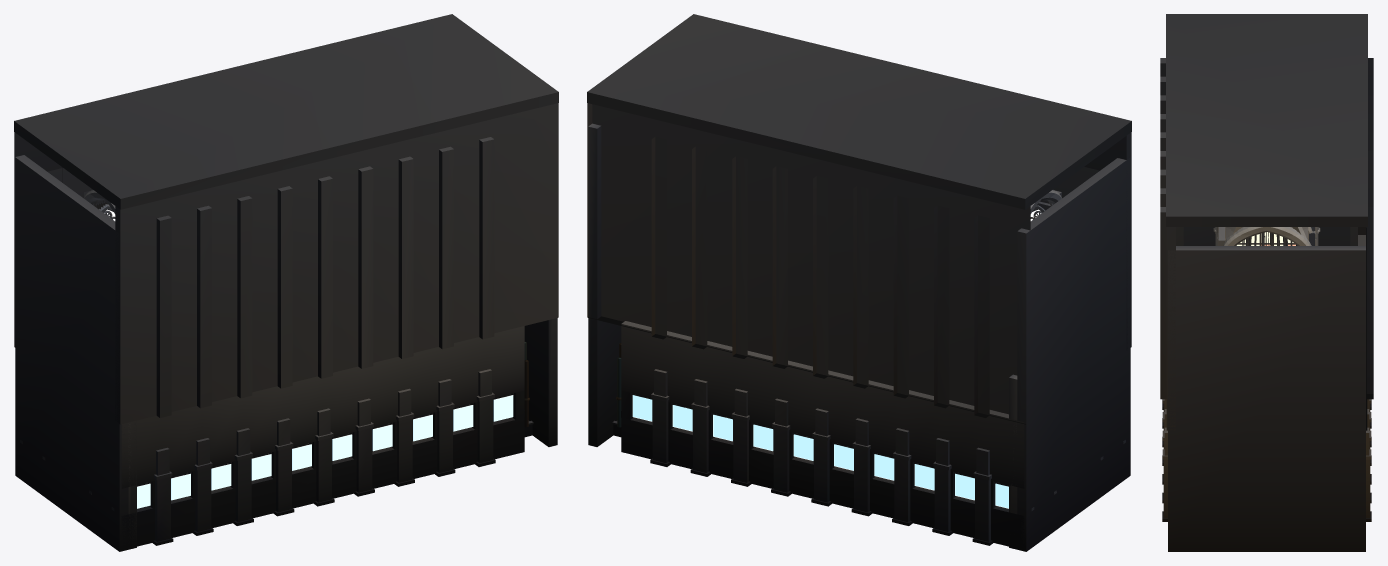
Rendered from cathedral_opus5_medium.glb.
3 views of the same model, side by side, from view 1: azimuth 30°, elevation 25°; view 2: azimuth 150°, elevation 25°; view 3: azimuth 270°, elevation 25° (orthographic). The views are drawn at different scales.
Visible parts, largest first — view 1: Cathedral; view 2: Cathedral; view 3: Cathedral.
Boxes of the visible parts, <box> form: Cathedral: <box>14,14,558,551</box>; Cathedral: <box>587,14,1131,551</box>; Cathedral: <box>1160,14,1373,551</box>.
Size of the model in its own units: 674 by 536 by 300.
